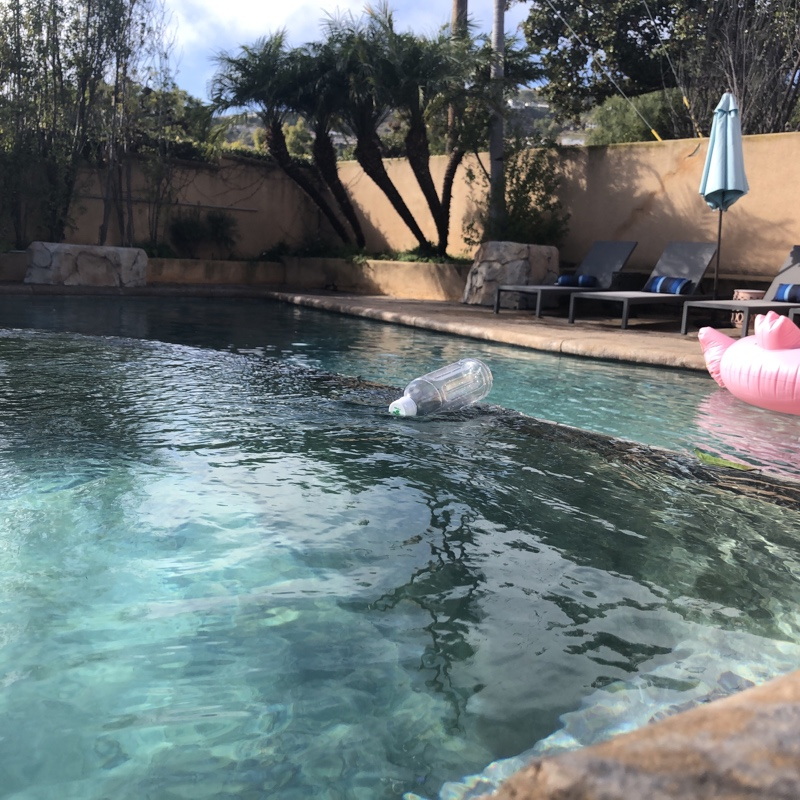Plastic Bottle: (383, 348, 498, 426)
